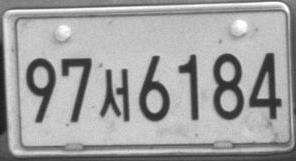1: (175, 53, 207, 120)
4: (247, 51, 283, 120)
6: (138, 55, 171, 122)
7: (60, 56, 92, 123)
8: (212, 52, 245, 120)
9: (24, 56, 56, 123)
서: (98, 67, 132, 123)
